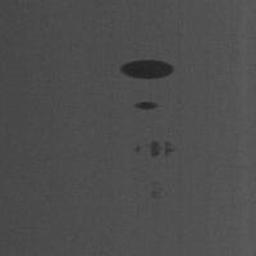Oil spot: (120, 60, 173, 79), (136, 102, 157, 110), (151, 142, 159, 156)
